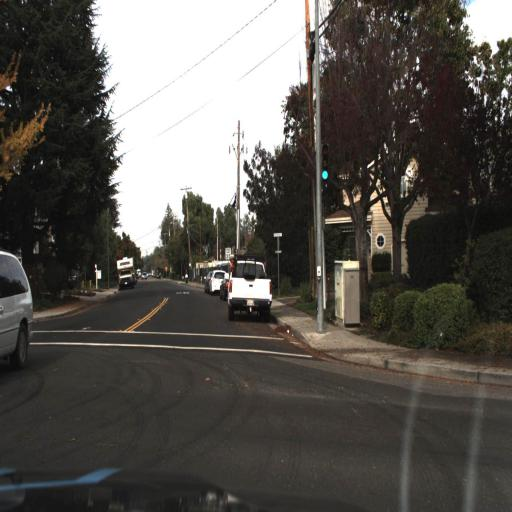car: (0, 245, 36, 378), (225, 255, 278, 322), (208, 267, 224, 303)
trafficLight-Green: (318, 140, 331, 190), (319, 152, 332, 189)
truck: (114, 251, 138, 295)
